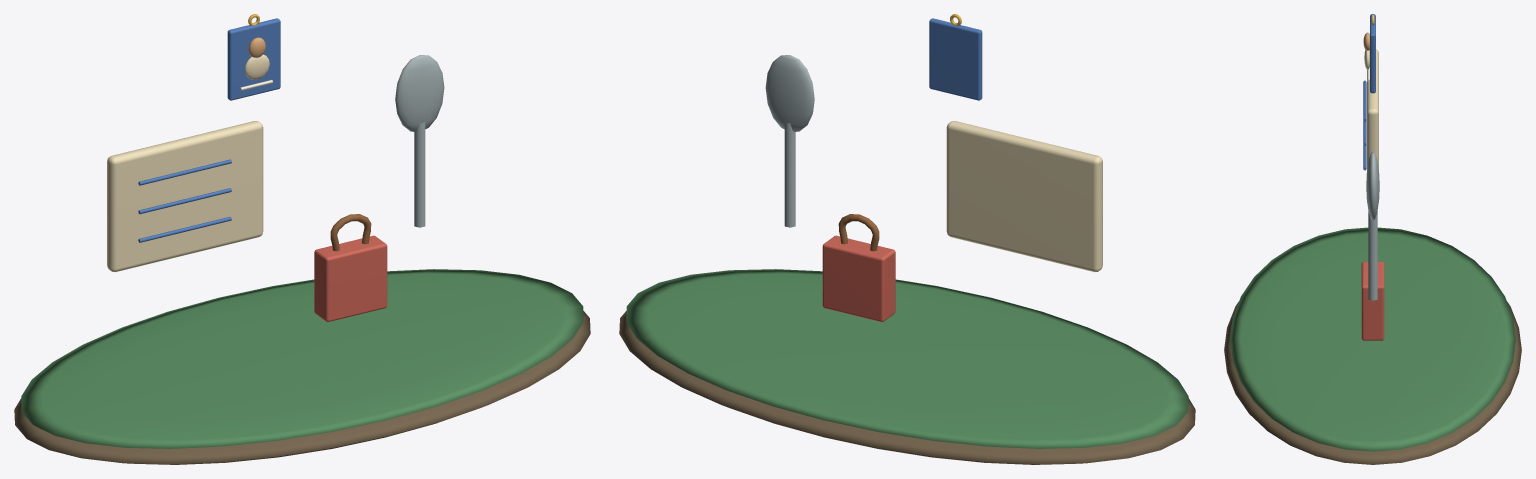
Rendered from complete-first-ownership-tag.glb.
3 views of the same model, side by side, from view 1: azimuth 30°, elevation 25°; view 2: azimuth 150°, elevation 25°; view 3: azimuth 270°, elevation 25° (orthographic). The views are drawn at different scales.
Visible parts, largest first — view 1: complete-first-ownership-tag_surface_01, complete-first-ownership-tag_surface_02, complete-first-ownership-tag_surface_00, complete-first-ownership-tag_surface_08, complete-first-ownership-tag_surface_03, complete-first-ownership-tag_surface_04, complete-first-ownership-tag_surface_09; view 2: complete-first-ownership-tag_surface_01, complete-first-ownership-tag_surface_02, complete-first-ownership-tag_surface_00, complete-first-ownership-tag_surface_08, complete-first-ownership-tag_surface_04, complete-first-ownership-tag_surface_03, complete-first-ownership-tag_surface_09; view 3: complete-first-ownership-tag_surface_01, complete-first-ownership-tag_surface_00, complete-first-ownership-tag_surface_08, complete-first-ownership-tag_surface_04, complete-first-ownership-tag_surface_02, complete-first-ownership-tag_surface_03.
Part boxes in pixels (left/top/right/bottom): complete-first-ownership-tag_surface_01: left=21, top=269, right=583, bottom=448; complete-first-ownership-tag_surface_02: left=107, top=54, right=269, bottom=272; complete-first-ownership-tag_surface_00: left=14, top=311, right=590, bottom=464; complete-first-ownership-tag_surface_08: left=314, top=235, right=387, bottom=321; complete-first-ownership-tag_surface_03: left=138, top=18, right=280, bottom=242; complete-first-ownership-tag_surface_04: left=395, top=55, right=444, bottom=227; complete-first-ownership-tag_surface_09: left=330, top=214, right=371, bottom=251; complete-first-ownership-tag_surface_01: left=626, top=269, right=1188, bottom=448; complete-first-ownership-tag_surface_02: left=946, top=121, right=1102, bottom=272; complete-first-ownership-tag_surface_00: left=619, top=311, right=1195, bottom=464; complete-first-ownership-tag_surface_08: left=822, top=235, right=895, bottom=321; complete-first-ownership-tag_surface_04: left=765, top=55, right=814, bottom=227; complete-first-ownership-tag_surface_03: left=929, top=18, right=982, bottom=100; complete-first-ownership-tag_surface_09: left=838, top=214, right=879, bottom=251; complete-first-ownership-tag_surface_01: left=1230, top=227, right=1515, bottom=451; complete-first-ownership-tag_surface_00: left=1224, top=301, right=1521, bottom=464; complete-first-ownership-tag_surface_08: left=1361, top=261, right=1384, bottom=340; complete-first-ownership-tag_surface_04: left=1366, top=152, right=1379, bottom=300; complete-first-ownership-tag_surface_02: left=1364, top=49, right=1378, bottom=202; complete-first-ownership-tag_surface_03: left=1363, top=14, right=1375, bottom=170.
Bounding box in the file's own units: 4.56 × 3.05 × 2.5.
